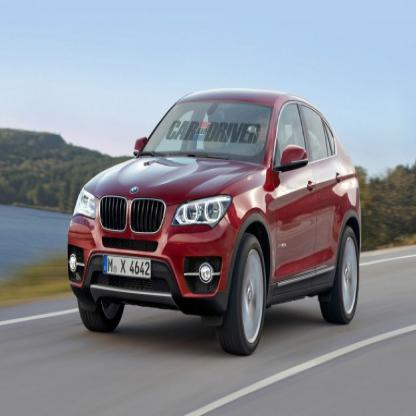Vehicle: (67, 87, 364, 358)
